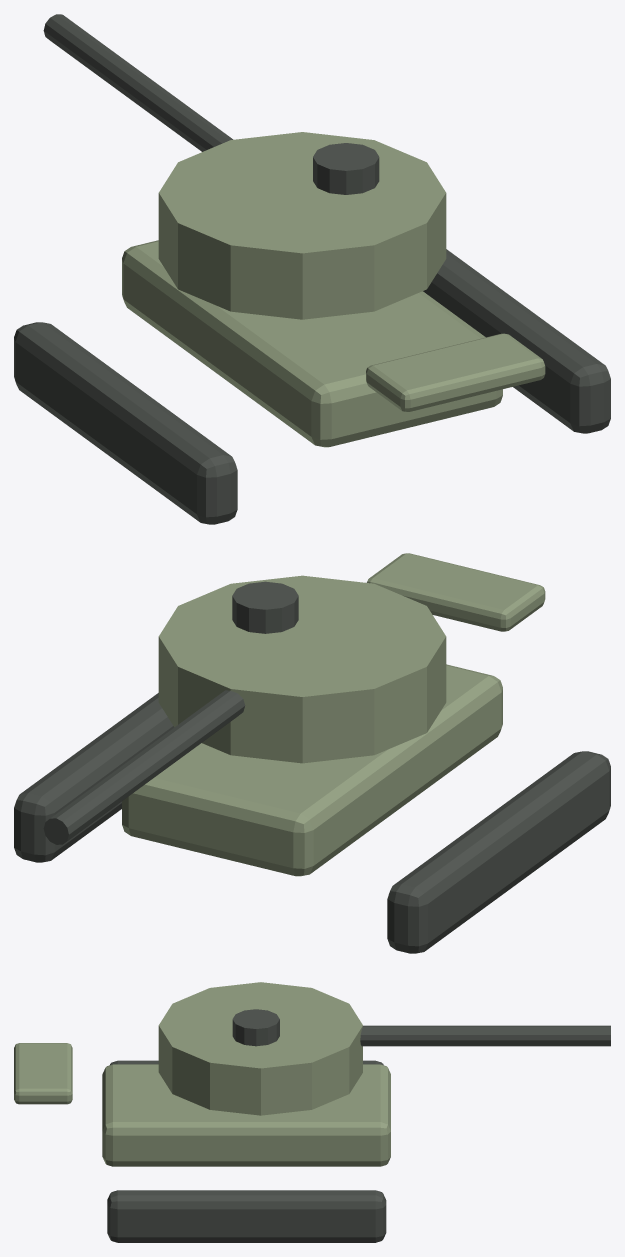
File: china_type99a.glb
3 renders of one model, top to bottom at view 1: azimuth 30°, elevation 25°; view 2: azimuth 150°, elevation 25°; view 3: azimuth 270°, elevation 25°, orthographic. The views are drawn at different scales.
Parts seen in each view (by area): view 1: turret, hull, left_track, right_track, rear_deck, gun, cupola; view 2: turret, hull, left_track, right_track, rear_deck, gun, cupola; view 3: turret, hull, right_track, gun, rear_deck, cupola.
Part boxes in pixels (box(x1,y1,x2,y2)): turret: box(158, 132, 446, 319); hull: box(122, 240, 502, 447); left_track: box(14, 322, 237, 524); right_track: box(423, 249, 610, 433); rear_deck: box(366, 333, 545, 411); gun: box(43, 14, 232, 151); cupola: box(313, 143, 379, 194); turret: box(158, 575, 446, 763); hull: box(122, 664, 502, 876); left_track: box(387, 751, 610, 953); right_track: box(14, 693, 174, 862); rear_deck: box(366, 553, 545, 631); gun: box(43, 690, 245, 844); cupola: box(232, 581, 298, 633); turret: box(158, 982, 362, 1115); hull: box(102, 1064, 390, 1166); right_track: box(107, 1190, 386, 1242); gun: box(360, 1025, 610, 1046); rear_deck: box(14, 1043, 72, 1104); cupola: box(232, 1009, 279, 1046).
Bounding box in the file's own units: 3.87 × 2.14 × 6.81.
